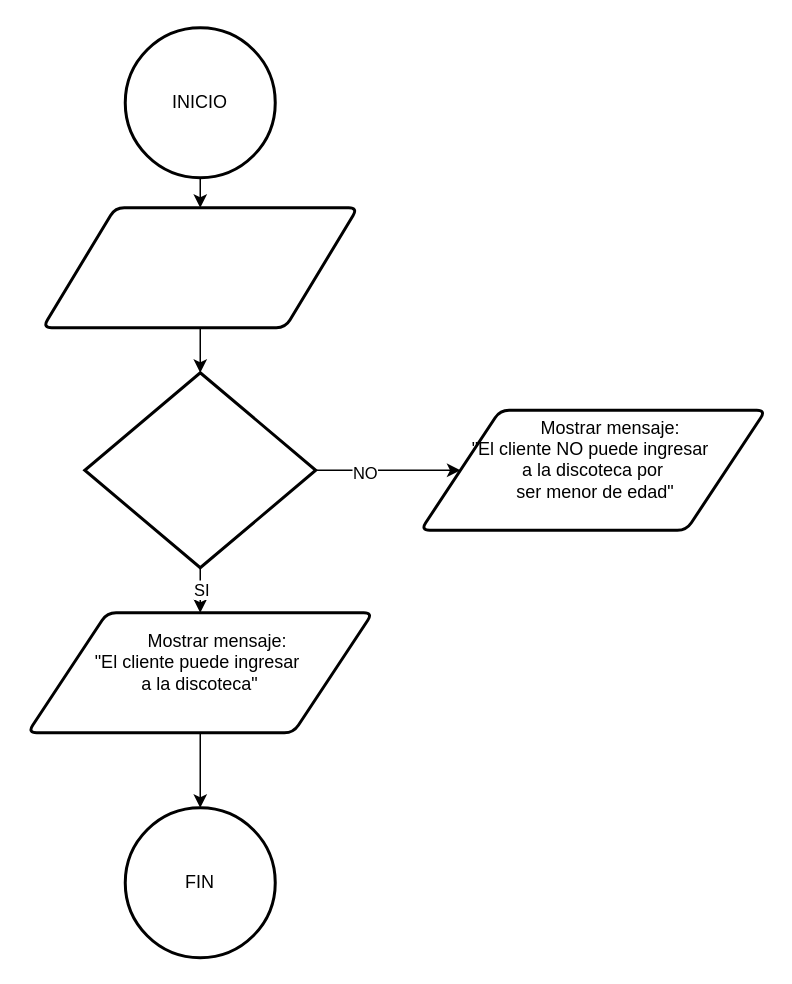
This 792x984 diagram has some shape labels left out. The shapes that lost their labels are listed below. From the top down, each one's centre as x and y in pixels, then its label:
(199,267): Mostrar mensaje: "Por favor, ingrese la edad del cliente: "
(199,469): Si edad >= 18
